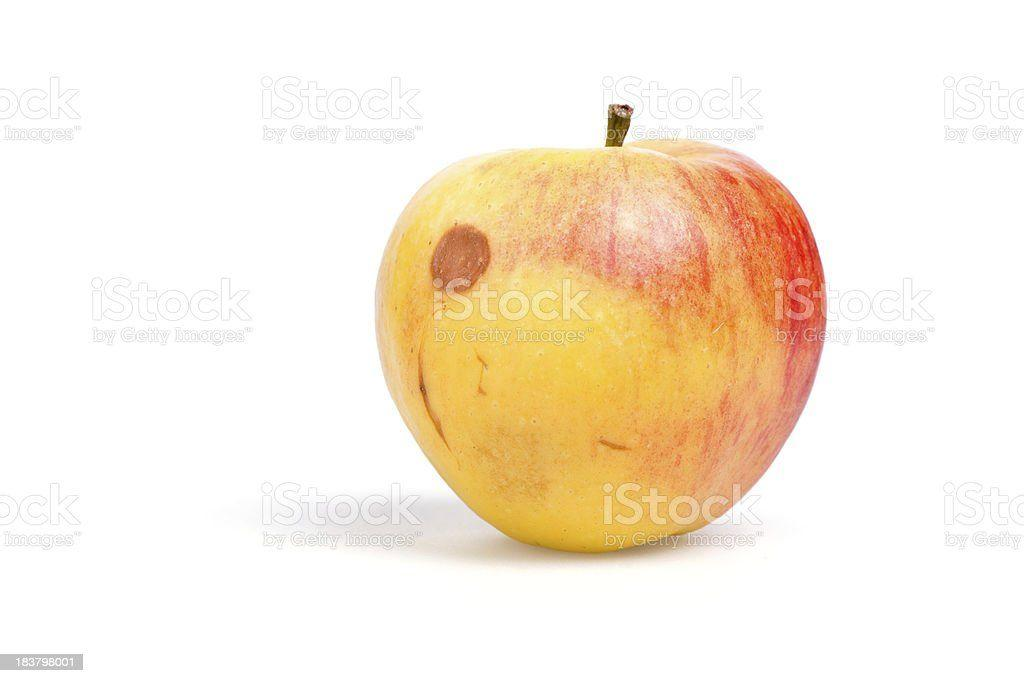Apple: (376, 140, 826, 558)
